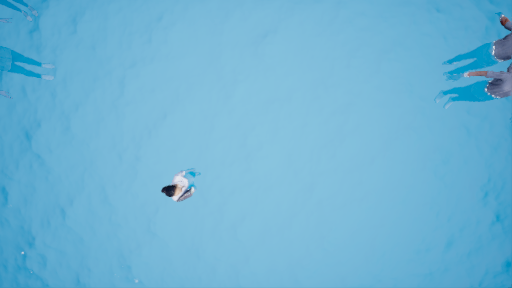person: (434, 65, 512, 109), (447, 8, 512, 60), (144, 155, 206, 207)
